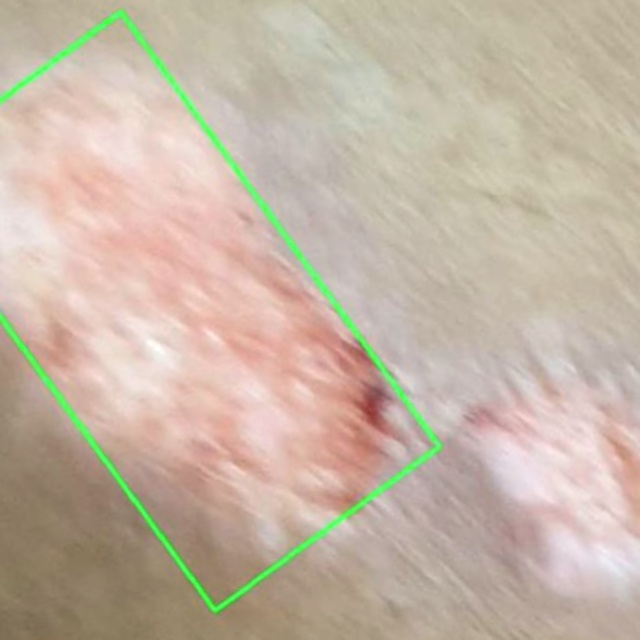Eczema: (0, 13, 438, 611)
